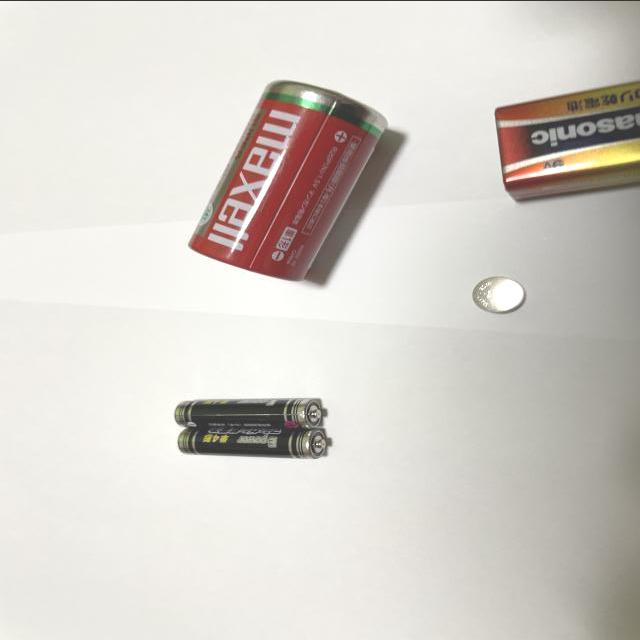9V: (495, 72, 640, 202)
